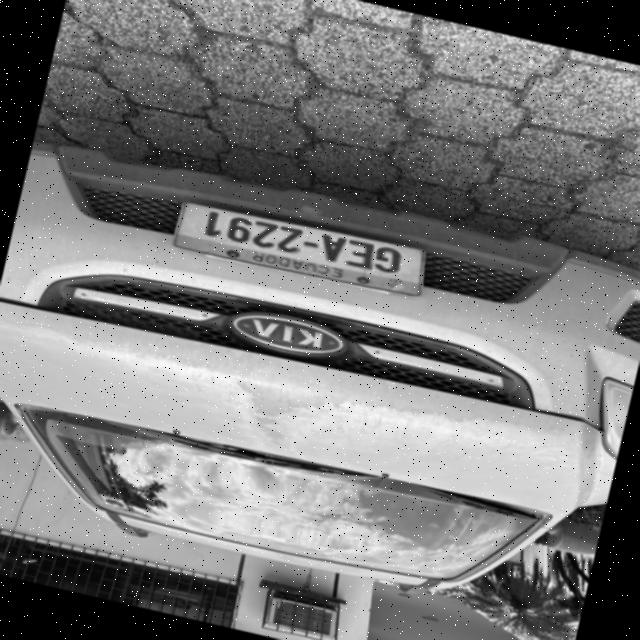Placa: (173, 202, 423, 295)
